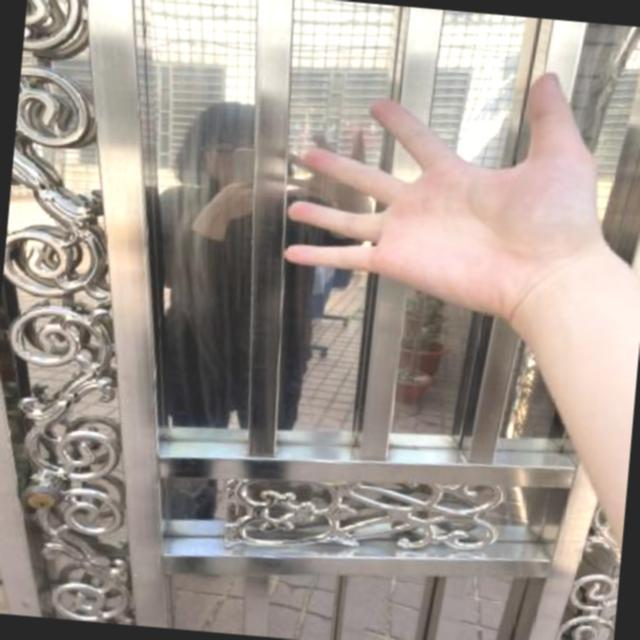hand: (255, 41, 634, 351)
